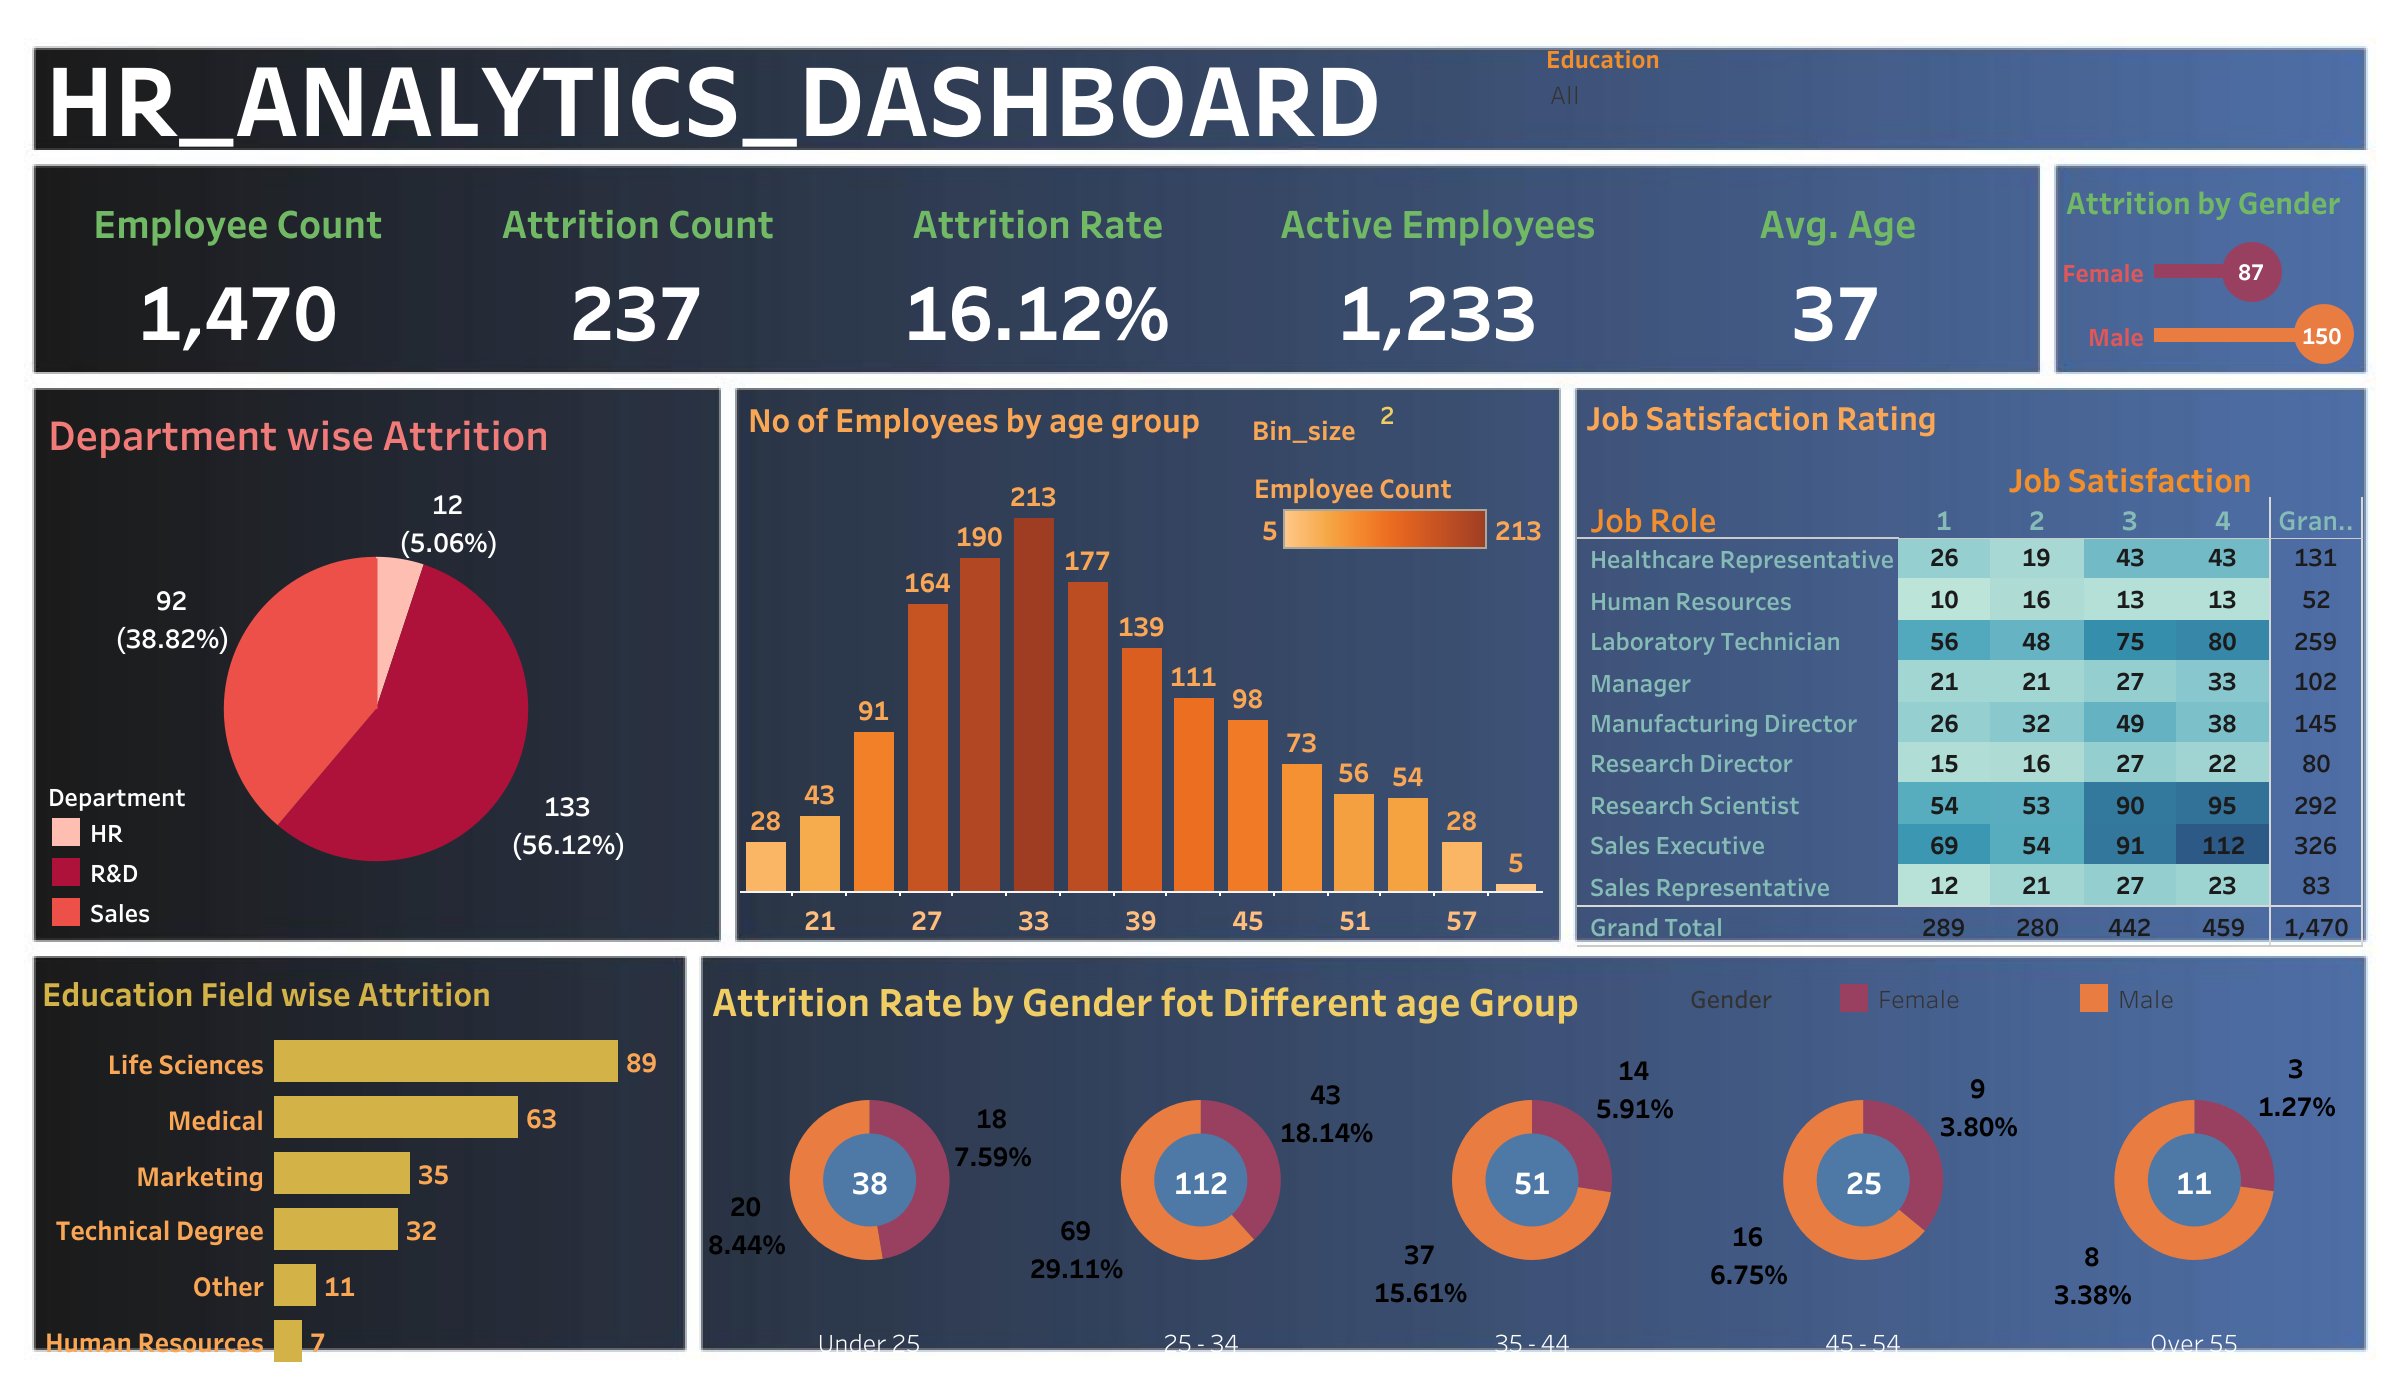

What the dashboard file says about the page in this screenshot:
{"tool":"tableau","page":{"name":"HR_Analytics_Dashboard","canvas":[1200,700],"ordinal":0},"visuals":[{"type":"image","param":"Image/Copy of HR background.pptx.jpg","box":[8,8,1184,684]},{"type":"filter","title":"Department wise Attrition","param":"[federated.12qvwog0huomij1dmyygm00jph35].[none:Education:nk]","box":[773,18.6,152.5,95.7]},{"type":"text","box":[20,21,749,54]},{"type":"worksheet","title":"KPI","mark":"Automatic","box":[19,84,1000,101]},{"type":"worksheet","title":"Attrition by Gender","mark":"Circle","rows":["Gender"],"cols":["Calculation_2080381602885578752","Calculation_2080381602885578752"],"box":[1029,84,152,99]},{"type":"worksheet","title":"Job Satisfaction Rating","mark":"Square","rows":["Job Role"],"cols":["Job Satisfaction"],"box":[789,191,393,283]},{"type":"worksheet","title":"No of Employees by age group","mark":"Automatic","rows":["Employee Count"],"cols":["Age (bin)"],"box":[370,192,401,277]},{"type":"worksheet","title":"Department wise Attrition","mark":"Pie","box":[20,197,336,272]},{"type":"parameter","param":"[Parameters].[Parameter 1]","box":[616,198,162,32]},{"type":"legend","title":"No of Employees by age group","param":"[federated.12qvwog0huomij1dmyygm00jph35].[sum:Employee Count:qk]","box":[627,230,149,48]},{"type":"legend","title":"Department wise Attrition","param":"[federated.12qvwog0huomij1dmyygm00jph35].[none:Department:nk]","box":[23,387,106,81]},{"type":"worksheet","title":"Education Field wise Attrition","mark":"Automatic","rows":["Education Field"],"cols":["Calculation_2080381602885578752"],"box":[17.2,479.4,325,205]},{"type":"worksheet","title":"Attrition Rate by Gender fot Different age Group","mark":"Pie","rows":["Calculation_2080381602926022660","Calculation_2080381602926022660"],"cols":["CF_age band"],"box":[351.7,481.3,828.3,199.2]},{"type":"legend","title":"Attrition Rate by Gender fot Different age Group","param":"[federated.12qvwog0huomij1dmyygm00jph35].[none:Gender:nk]","box":[845.4,489.1,297.4,33.2]}]}

Visuals, with their boxes in screenshot pixels (x1, y1, x2, y2), scaled from the page's 1200x700 canvas onto the 2398x1398 screenshot:
image: l=16, t=16, r=2382, b=1382
"Department wise Attrition" filter: l=1545, t=37, r=1849, b=228
text: l=40, t=42, r=1537, b=150
"KPI" worksheet: l=38, t=168, r=2036, b=369
"Attrition by Gender" worksheet (Circle marks): l=2056, t=168, r=2360, b=365
"Job Satisfaction Rating" worksheet (Square marks): l=1577, t=381, r=2362, b=947
"No of Employees by age group" worksheet: l=739, t=383, r=1541, b=937
"Department wise Attrition" worksheet (Pie marks): l=40, t=393, r=711, b=937
parameter: l=1231, t=395, r=1555, b=459
"No of Employees by age group" legend: l=1253, t=459, r=1551, b=555
"Department wise Attrition" legend: l=46, t=773, r=258, b=935
"Education Field wise Attrition" worksheet: l=34, t=957, r=684, b=1367
"Attrition Rate by Gender fot Different age Group" worksheet (Pie marks): l=703, t=961, r=2358, b=1359
"Attrition Rate by Gender fot Different age Group" legend: l=1689, t=977, r=2284, b=1043
